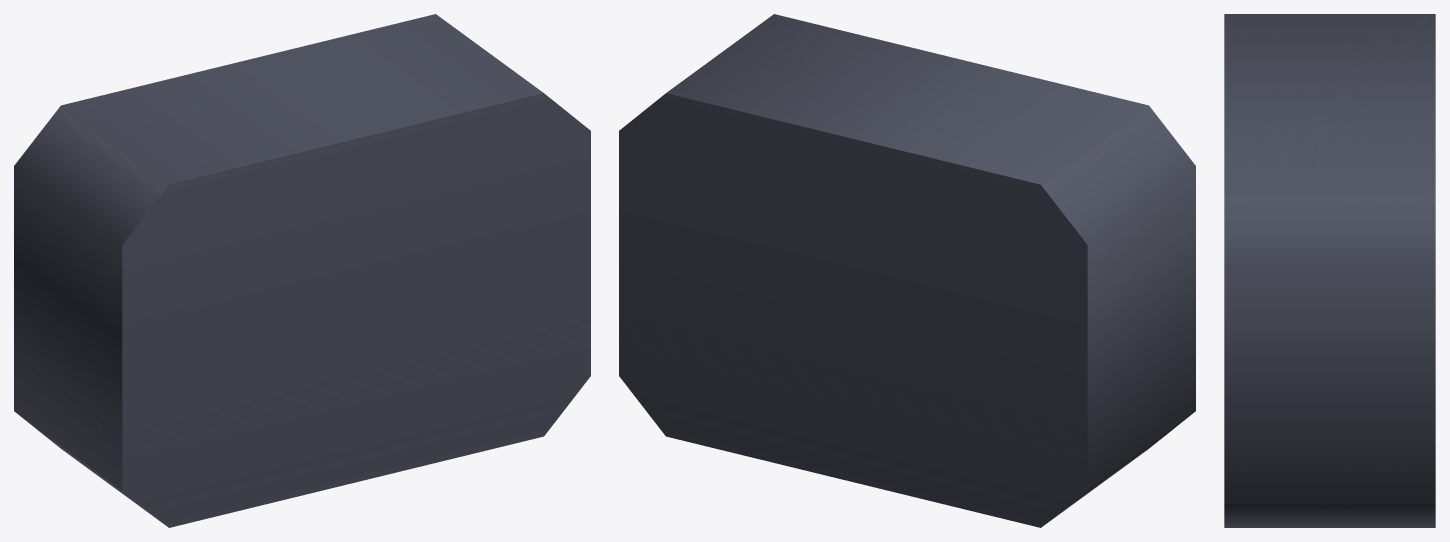
The model's file is coaster-monorail-segment.glb.
The picture shows the model from 3 angles, left to right: view 1: azimuth 30°, elevation 25°; view 2: azimuth 150°, elevation 25°; view 3: azimuth 270°, elevation 25°; orthographic projection. The views are drawn at different scales.
Visible parts, largest first — view 1: coaster-monorail-segment; view 2: coaster-monorail-segment; view 3: coaster-monorail-segment.
Boxes of the visible parts, x1,y1,x2,y2 form: coaster-monorail-segment: (14,14,590,527); coaster-monorail-segment: (619,14,1195,527); coaster-monorail-segment: (1224,14,1435,527).
Bounding box in the file's own units: 0.25 × 0.175 × 0.1.
1 material, 1 textured.
